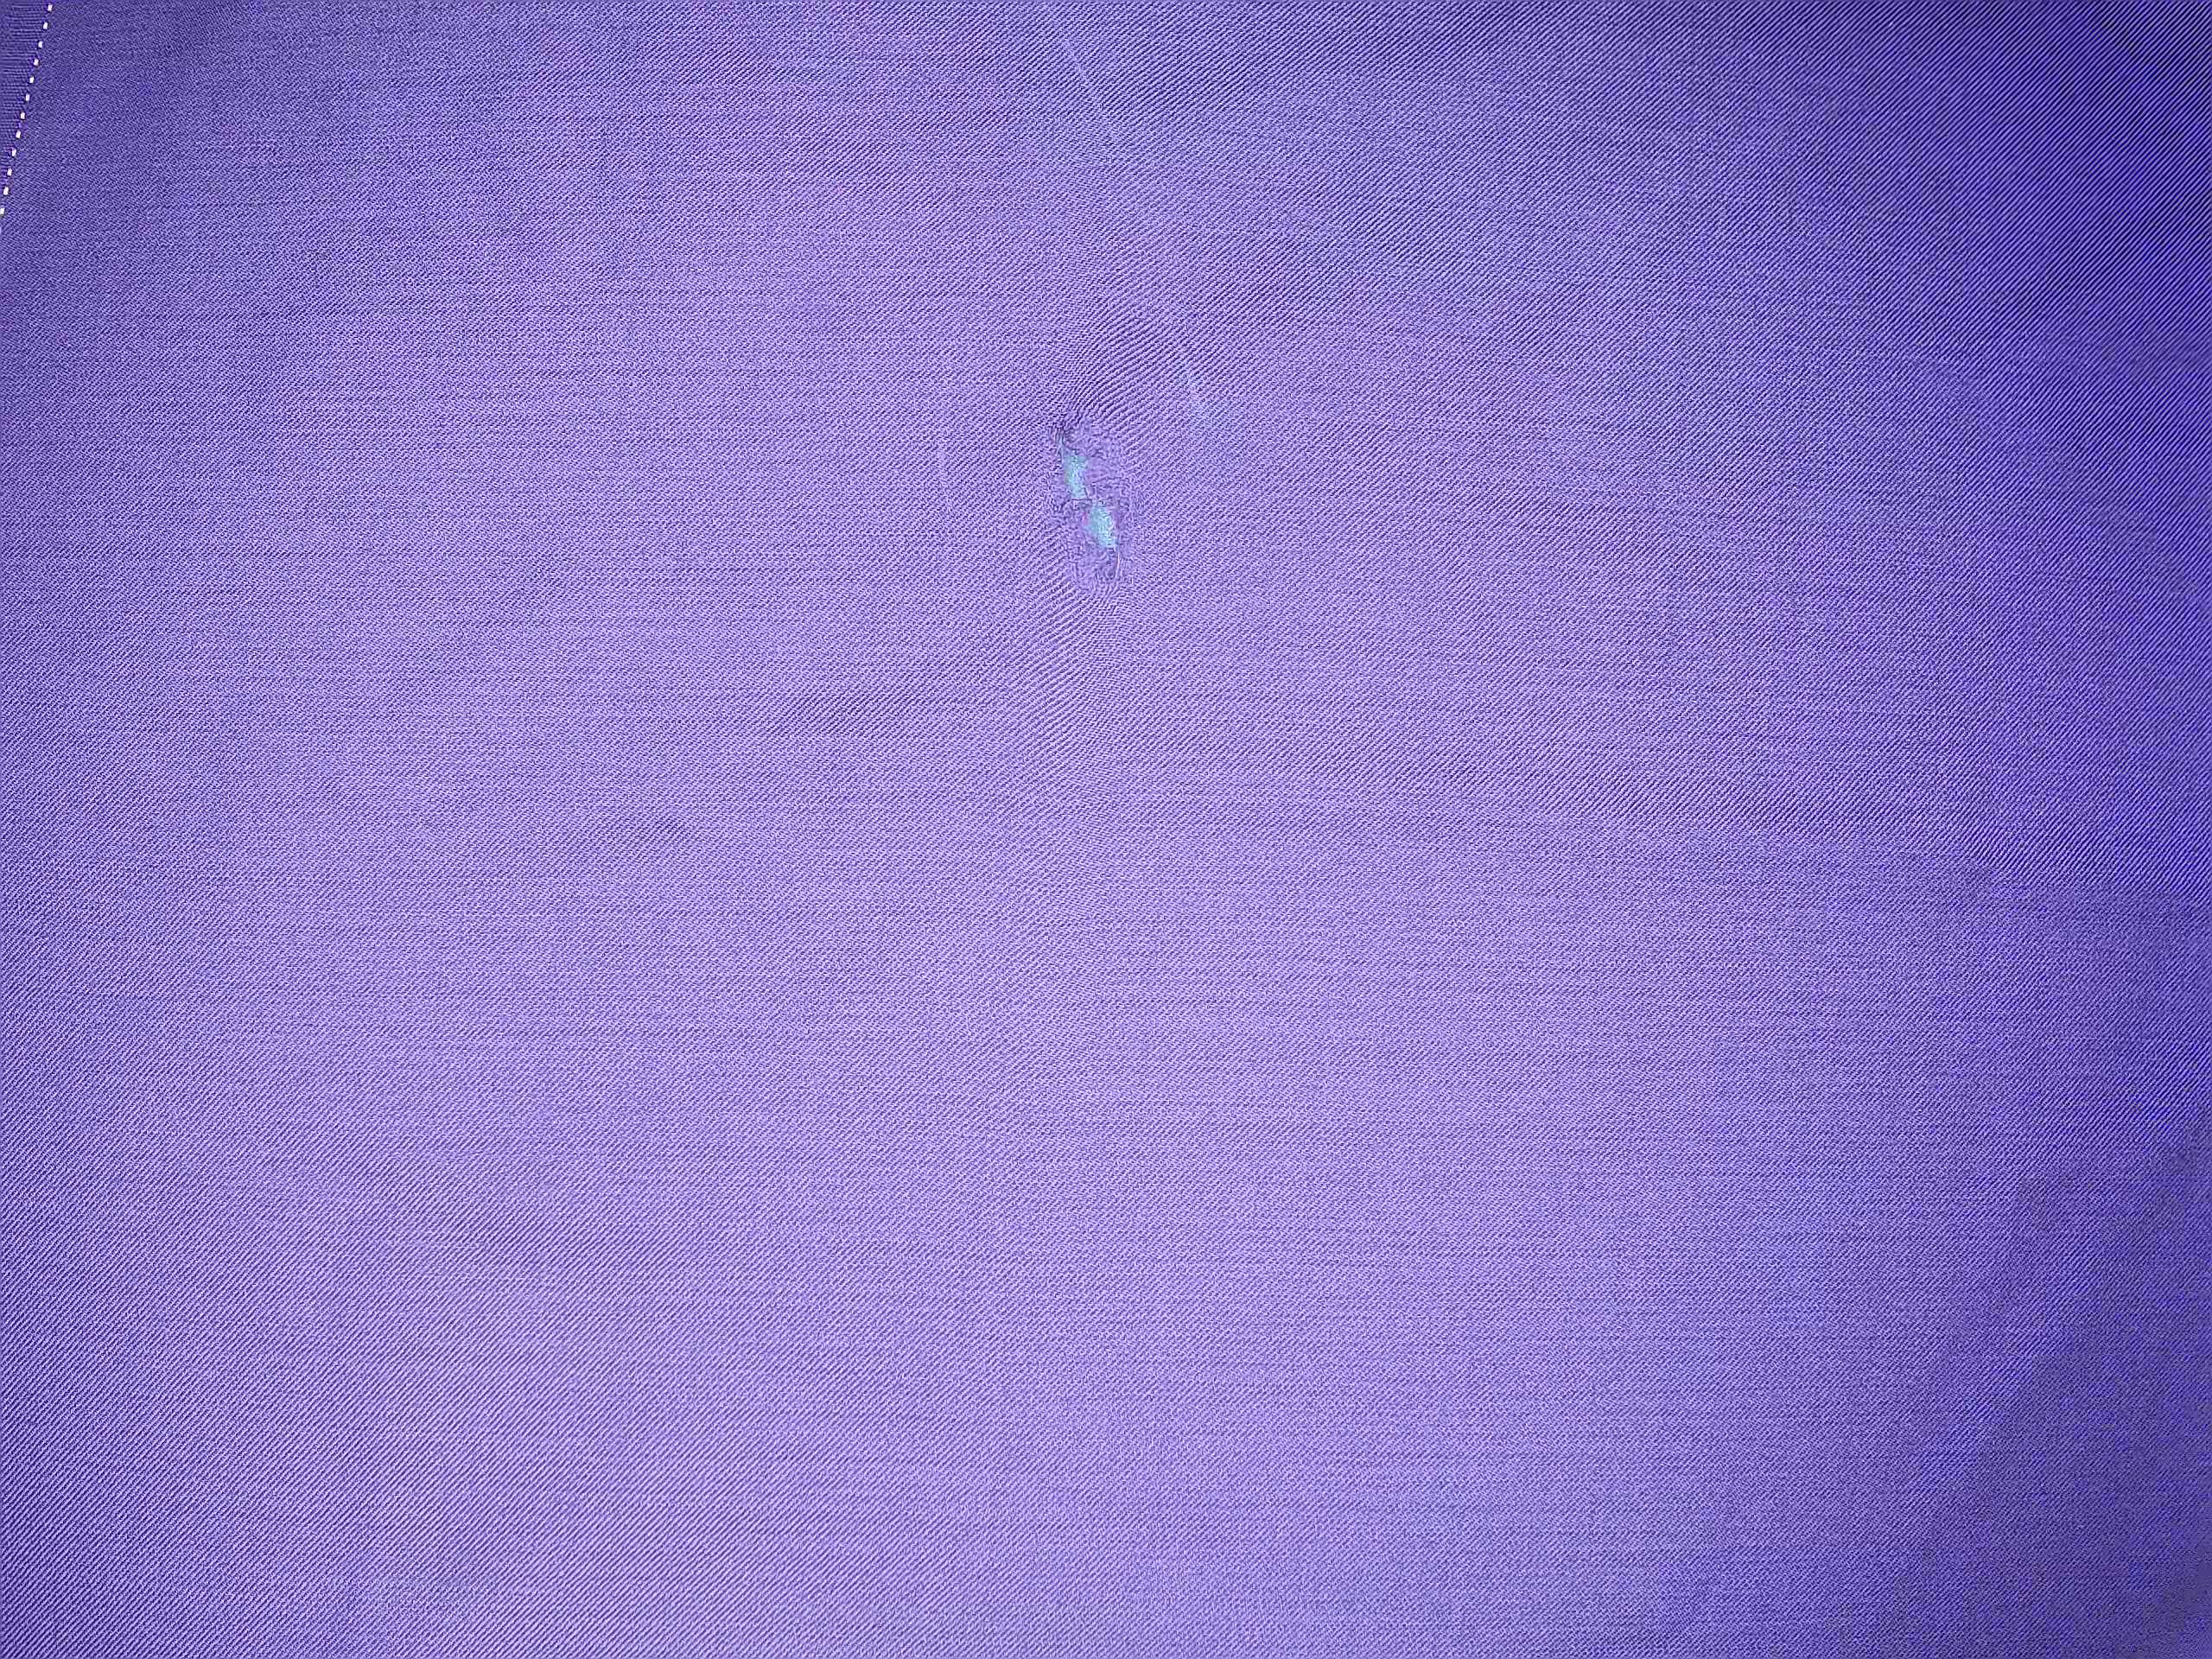rubbing-hole: (1026, 392, 1169, 603)
